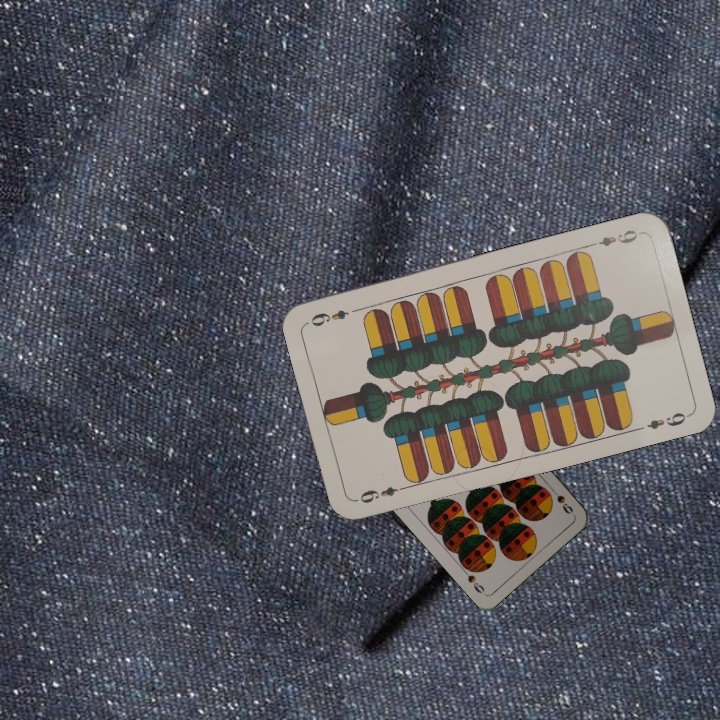E9: (355, 481, 410, 506), (585, 226, 640, 250)
S9: (546, 482, 576, 517)
